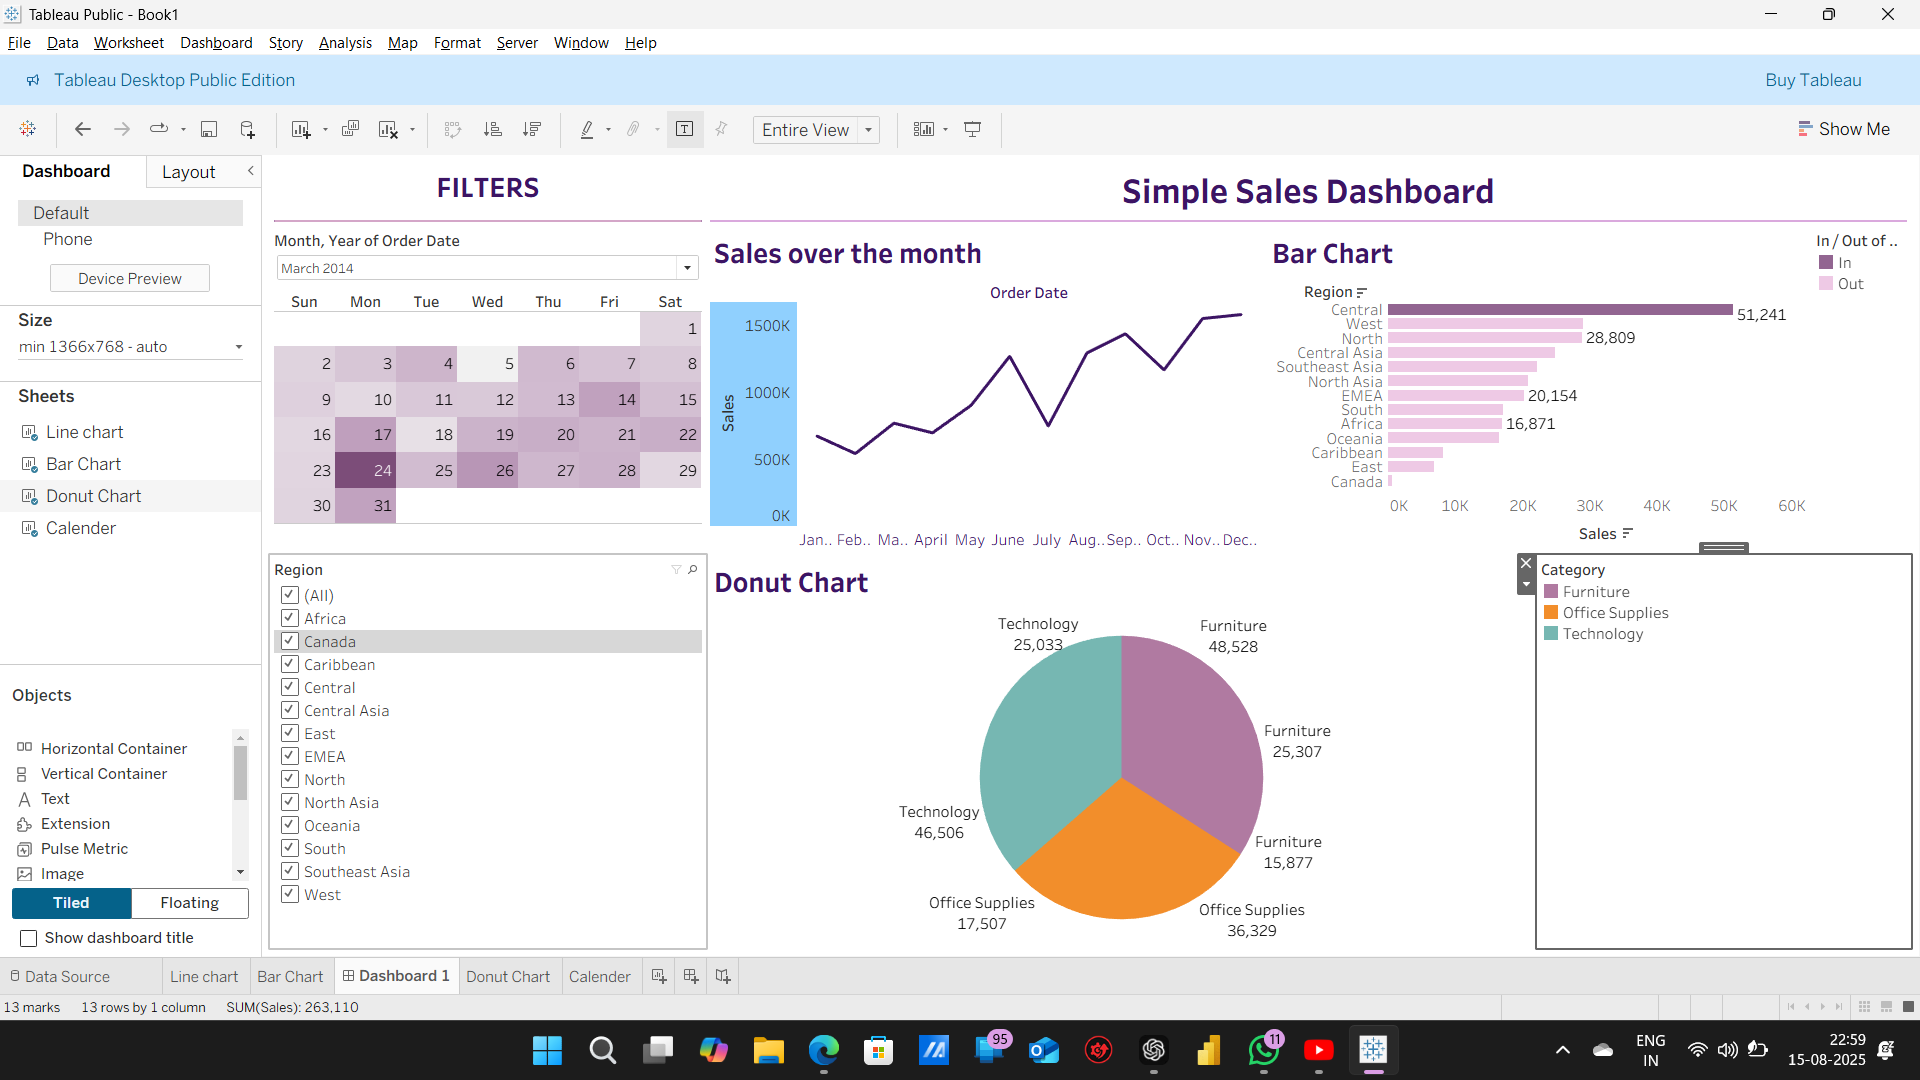

The dashboard page shown, as its layout file describes it:
{"tool":"tableau","page":{"name":"Simple Sales Dashboard","canvas":[1000,1000],"units":"permille","ordinal":0},"visuals":[{"type":"text","box":[4.8,10,263.1,57.4]},{"type":"text","box":[267.9,10,727.2,66.2]},{"type":"blank","box":[4.8,76.2,263.1,12.5]},{"type":"blank","box":[267.9,76.2,727.2,12.5]},{"type":"filter","title":"Calender","param":"[federated.0xggj2n0w5q6ey1c6pwqg0p27t1d].[my:order_date:ok]","box":[4.8,88.6,263.1,76.2]},{"type":"worksheet","title":"Line chart","mark":"Automatic","rows":["sales"],"cols":["order_date"],"box":[267.9,88.7,336.8,410.7]},{"type":"worksheet","title":"Bar Chart","mark":"Automatic","rows":["region"],"cols":["sales"],"box":[604.7,88.7,330.7,410.7]},{"type":"legend","title":"Bar Chart","param":"[federated.0xggj2n0w5q6ey1c6pwqg0p27t1d].[io:Region Set:nk]","box":[935.4,88.7,59.8,410.7]},{"type":"worksheet","title":"Calender","mark":"Square","rows":["order_date"],"cols":["order_date"],"box":[4.8,164.8,263.1,300.9]},{"type":"filter","title":"Bar Chart","param":"[federated.0xggj2n0w5q6ey1c6pwqg0p27t1d].[none:region:nk]","box":[4.8,499.4,263.1,490.6]},{"type":"worksheet","title":"Donut Chart","mark":"Pie","box":[267.9,499.4,501.5,490.6]},{"type":"legend","title":"Donut Chart","param":"[federated.0xggj2n0w5q6ey1c6pwqg0p27t1d].[none:category:nk]","box":[769.5,499.4,225.7,490.6]}]}

Visuals, with their boxes on the dashboard's canvas, which has no fixed pixel size, in thousandths of its width and height (x1, y1, x2, y2). These are canvas units, not pixel positions in the 1920x1080 screenshot, which may show the page scaled, cropped or inside an application window:
text: [5,10,268,67]
text: [268,10,995,76]
blank: [5,76,268,89]
blank: [268,76,995,89]
"Calender" filter: [5,89,268,165]
"Line chart" worksheet: [268,89,605,499]
"Bar Chart" worksheet: [605,89,935,499]
"Bar Chart" legend: [935,89,995,499]
"Calender" worksheet (Square marks): [5,165,268,466]
"Bar Chart" filter: [5,499,268,990]
"Donut Chart" worksheet (Pie marks): [268,499,769,990]
"Donut Chart" legend: [770,499,995,990]
